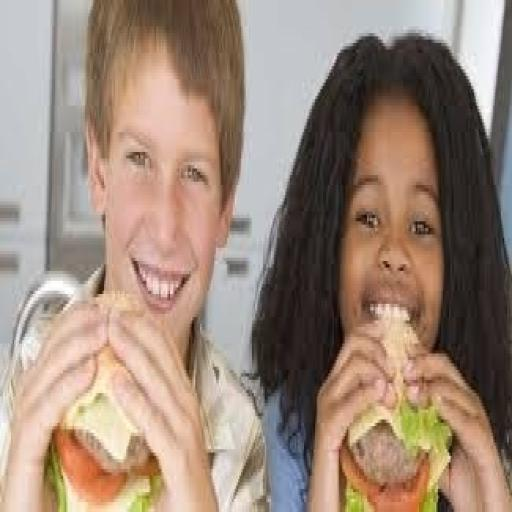eating: (3, 4, 509, 506), (249, 30, 510, 508)
